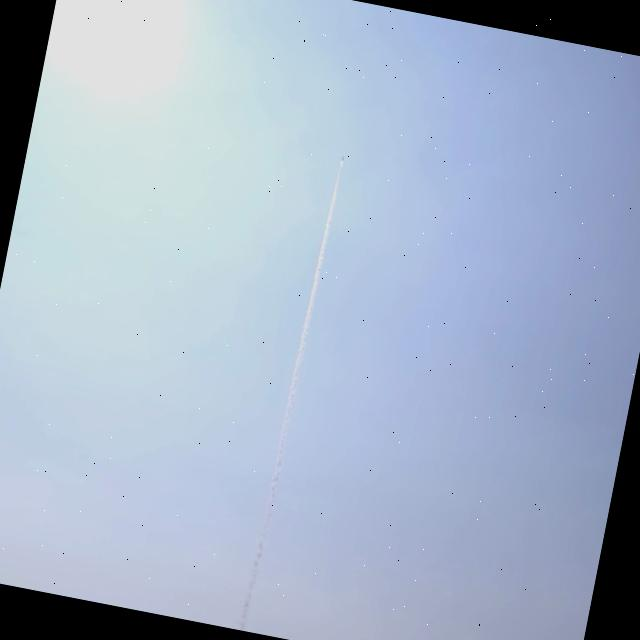smoke_trail_no_rocket: (237, 237, 326, 632)
